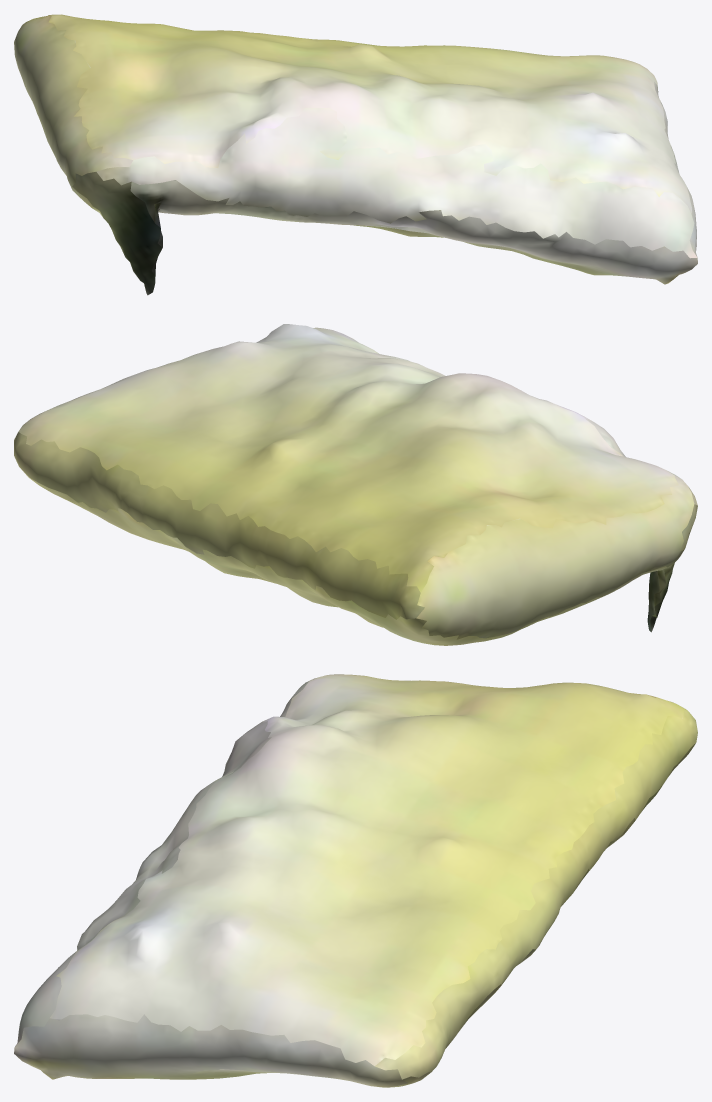
The model's file is 22_chair.glb.
The picture shows the model from 3 angles, top to bottom: view 1: azimuth 30°, elevation 25°; view 2: azimuth 150°, elevation 25°; view 3: azimuth 270°, elevation 25°; orthographic projection. The views are drawn at different scales.
Visible parts, largest first — view 1: 22_chair; view 2: 22_chair; view 3: 22_chair.
Part boxes in pixels (x1,y1,x2,y2): 22_chair: [14, 14, 697, 295]; 22_chair: [14, 324, 697, 645]; 22_chair: [14, 674, 697, 1087].
Bounding box in the file's own units: 1.17 × 0.3766 × 1.05.
1 material, 1 textured.
